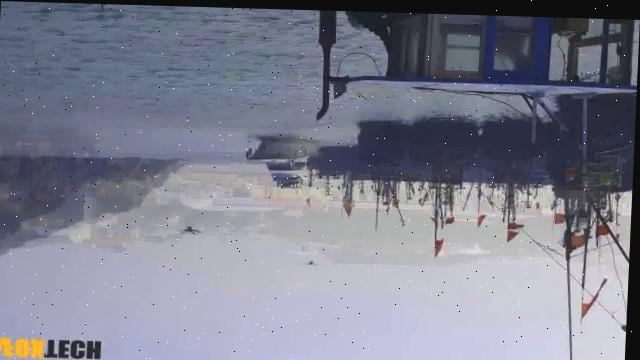drone: (179, 221, 203, 236)
